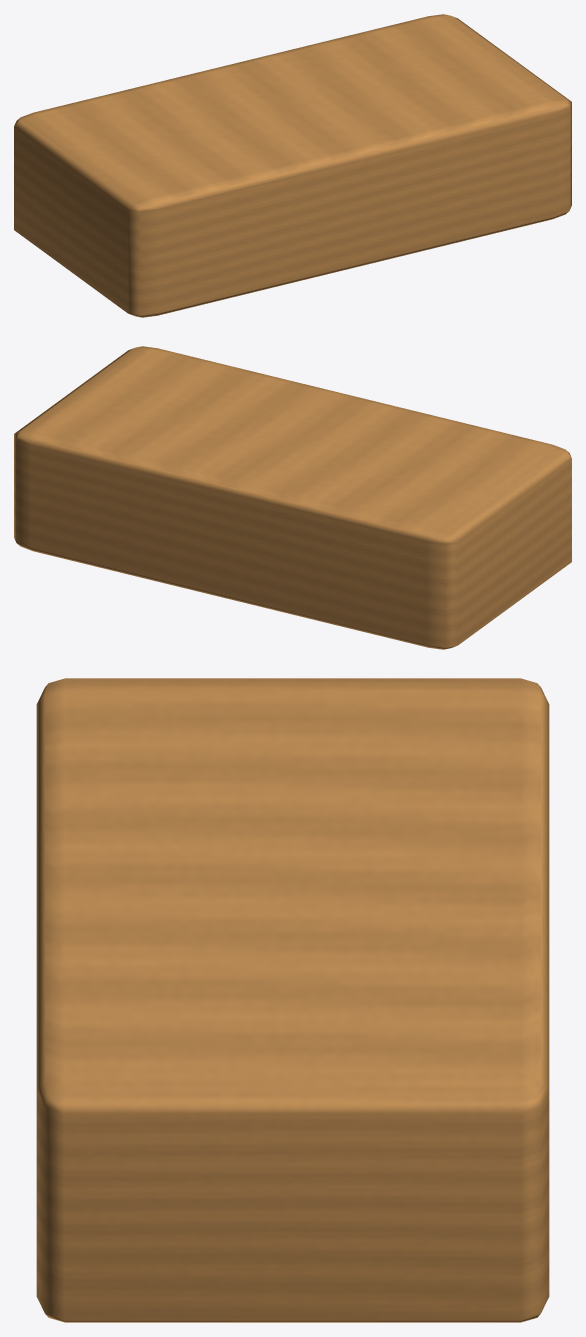
The model's file is wall_low_2m.glb.
3 renders of one model, top to bottom at view 1: azimuth 30°, elevation 25°; view 2: azimuth 150°, elevation 25°; view 3: azimuth 270°, elevation 25°, orthographic. The views are drawn at different scales.
Visible parts, largest first — view 1: Block.003; view 2: Block.003; view 3: Block.003.
Boxes of the visible parts, bbox=[...] form: Block.003: bbox=[14, 14, 571, 317]; Block.003: bbox=[14, 346, 571, 649]; Block.003: bbox=[36, 678, 549, 1322].
Size of the model in its own units: 2 by 0.5 by 1.
1 material, 1 textured.
